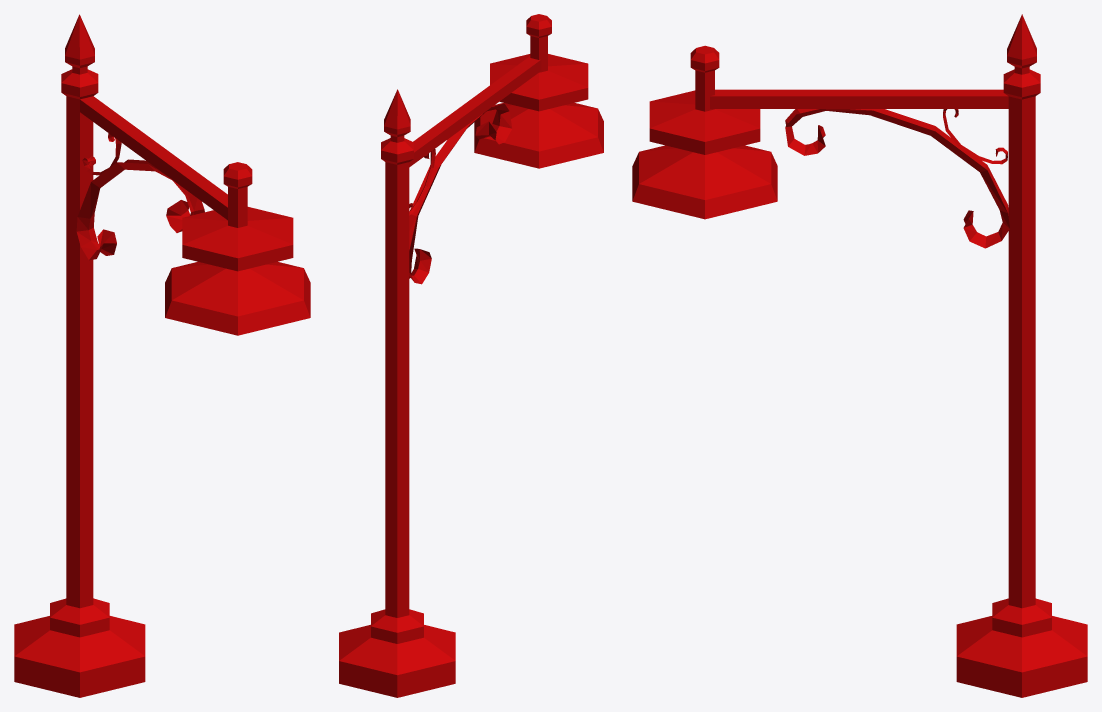
Rendered from lamp.obj.
3 renders of one model, left to right at view 1: azimuth 30°, elevation 25°; view 2: azimuth 150°, elevation 25°; view 3: azimuth 270°, elevation 25°, orthographic. The views are drawn at different scales.
Parts seen in each view (by area): view 1: Mesh_polySurface1; view 2: Mesh_polySurface1; view 3: Mesh_polySurface1.
Part boxes in pixels (x1,y1,x2,y2): Mesh_polySurface1: [14, 14, 310, 697]; Mesh_polySurface1: [339, 14, 603, 697]; Mesh_polySurface1: [632, 14, 1087, 697].
Size of the model in its own units: 4.03 by 17.27 by 10.93.
